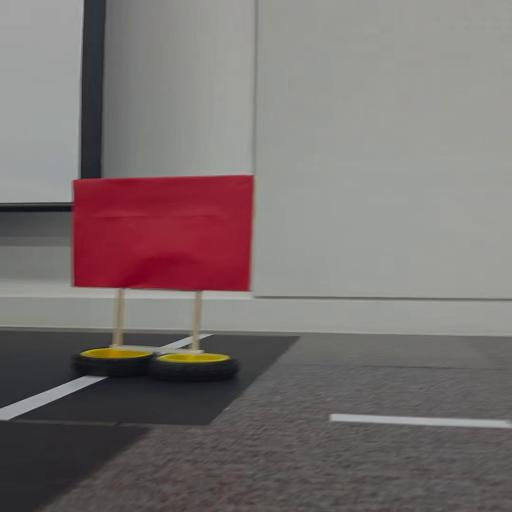Sign_A: (66, 174, 248, 386)
